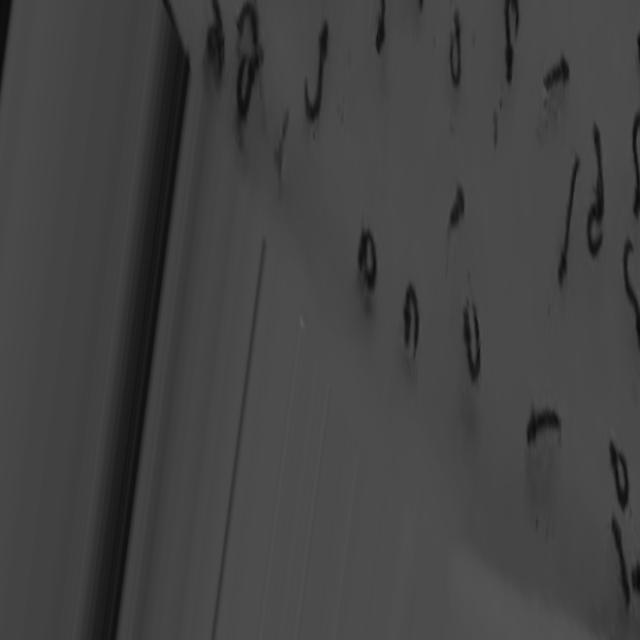larvas: (556, 153, 583, 287), (305, 27, 331, 117), (610, 522, 632, 602), (462, 298, 482, 380), (522, 409, 563, 447), (624, 240, 640, 334), (202, 0, 223, 71), (448, 12, 466, 89), (237, 52, 260, 110), (447, 186, 470, 242), (504, 4, 521, 76), (590, 119, 604, 198), (402, 288, 420, 348), (585, 198, 603, 256), (610, 444, 628, 501), (237, 1, 260, 45), (359, 232, 378, 285), (631, 106, 640, 216), (542, 55, 570, 90), (375, 0, 386, 53)
